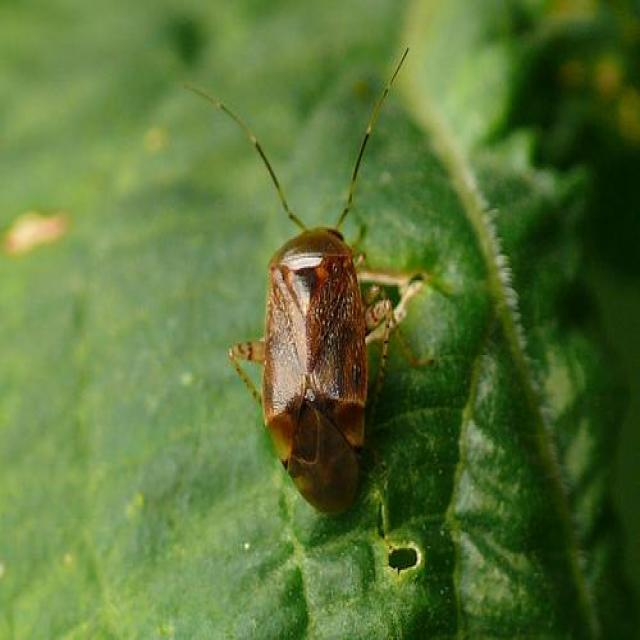Miridae-Adult-: (179, 34, 425, 522)
